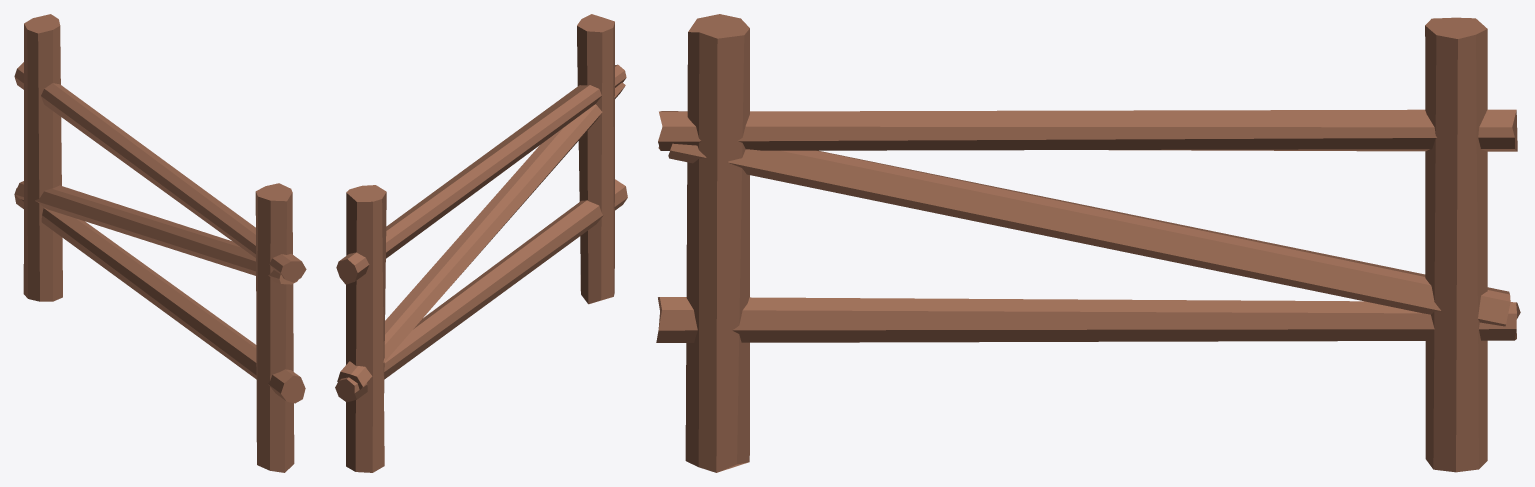
File: Fence5.fbx
3 views of the same model, side by side, from view 1: azimuth 30°, elevation 25°; view 2: azimuth 150°, elevation 25°; view 3: azimuth 270°, elevation 25° (orthographic). The views are drawn at different scales.
Visible parts, largest first — view 1: Fence5; view 2: Fence5; view 3: Fence5.
Boxes of the visible parts, x1=… form: Fence5: x1=14, y1=14, x2=306, y2=472; Fence5: x1=335, y1=14, x2=627, y2=472; Fence5: x1=656, y1=14, x2=1520, y2=472.
Bounding box in the file's own units: 5.24 × 40.07 × 71.41.
